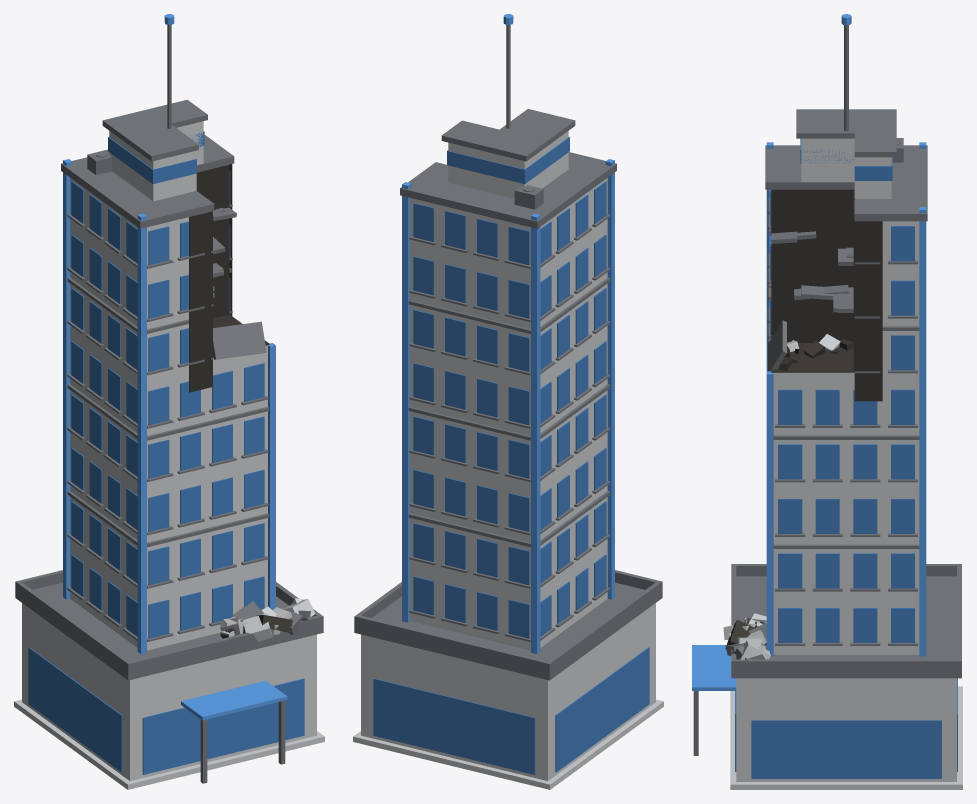
The model's file is Building_Tall_02_Damaged.fbx.
The picture shows the model from 3 angles, left to right: view 1: azimuth 30°, elevation 25°; view 2: azimuth 150°, elevation 25°; view 3: azimuth 270°, elevation 25°; orthographic projection. The views are drawn at different scales.
Parts seen in each view (by area): view 1: Building_Tall_02_Damaged_Structure, Building_Tall_02_Damaged_Windows, Building_Tall_02_Damaged_Trim, Building_Tall_02_Damaged_Accent, Building_Tall_02_Damaged_Scorched; view 2: Building_Tall_02_Damaged_Structure, Building_Tall_02_Damaged_Windows, Building_Tall_02_Damaged_Trim, Building_Tall_02_Damaged_Accent; view 3: Building_Tall_02_Damaged_Structure, Building_Tall_02_Damaged_Windows, Building_Tall_02_Damaged_Trim, Building_Tall_02_Damaged_Scorched, Building_Tall_02_Damaged_Accent.
Part boxes in pixels (x1,y1,x2,y2): Building_Tall_02_Damaged_Structure: [14, 121, 324, 789]; Building_Tall_02_Damaged_Windows: [28, 131, 304, 774]; Building_Tall_02_Damaged_Trim: [15, 25, 323, 783]; Building_Tall_02_Damaged_Accent: [63, 14, 287, 720]; Building_Tall_02_Damaged_Scorched: [189, 164, 307, 638]; Building_Tall_02_Damaged_Structure: [353, 131, 663, 789]; Building_Tall_02_Damaged_Windows: [373, 137, 649, 774]; Building_Tall_02_Damaged_Trim: [354, 25, 662, 680]; Building_Tall_02_Damaged_Accent: [402, 14, 614, 653]; Building_Tall_02_Damaged_Structure: [723, 138, 962, 789]; Building_Tall_02_Damaged_Windows: [735, 138, 957, 778]; Building_Tall_02_Damaged_Trim: [693, 25, 961, 755]; Building_Tall_02_Damaged_Scorched: [725, 189, 882, 659]; Building_Tall_02_Damaged_Accent: [692, 14, 926, 690].
Bounding box in the file's own units: 11.6 × 39.85 × 13.5.
